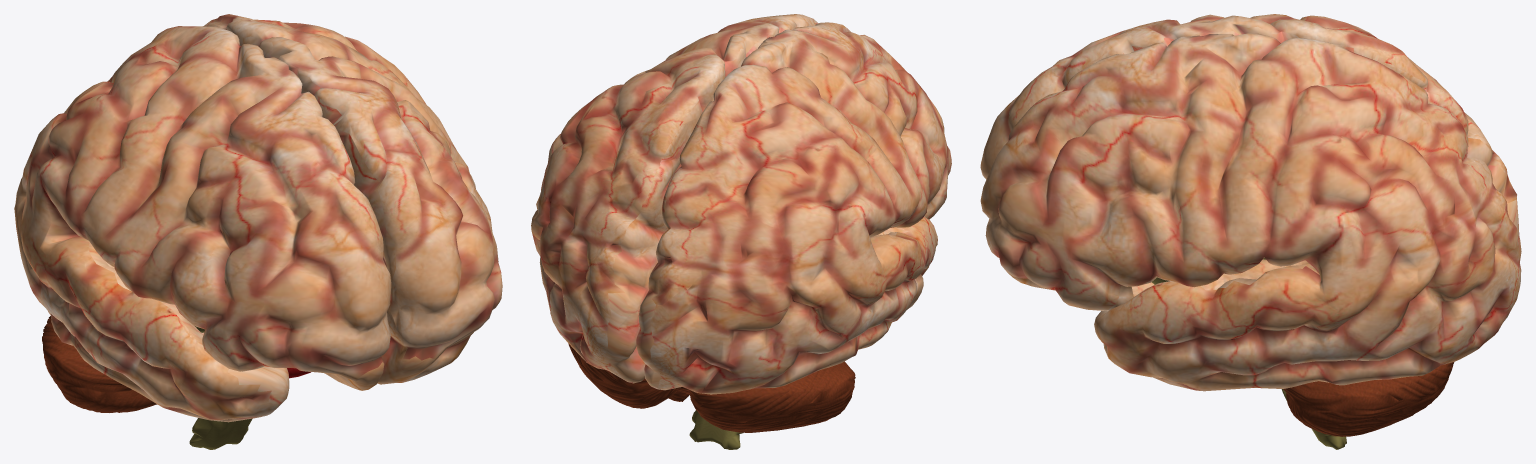
File: brain.gltf
The picture shows the model from 3 angles, left to right: view 1: azimuth 30°, elevation 25°; view 2: azimuth 150°, elevation 25°; view 3: azimuth 270°, elevation 25°; orthographic projection. The views are drawn at different scales.
Visible parts, largest first — view 1: 79f8778a495d4494ae1cd7348091c3b4; view 2: 79f8778a495d4494ae1cd7348091c3b4; view 3: 79f8778a495d4494ae1cd7348091c3b4.
Part boxes in pixels (bbox=[...]): 79f8778a495d4494ae1cd7348091c3b4: bbox=[14, 14, 502, 449]; 79f8778a495d4494ae1cd7348091c3b4: bbox=[531, 14, 951, 449]; 79f8778a495d4494ae1cd7348091c3b4: bbox=[980, 14, 1521, 449].
Size of the model in its own units: 2.93 by 3.09 by 3.64.
Materials: 1 (1 with a texture image).
